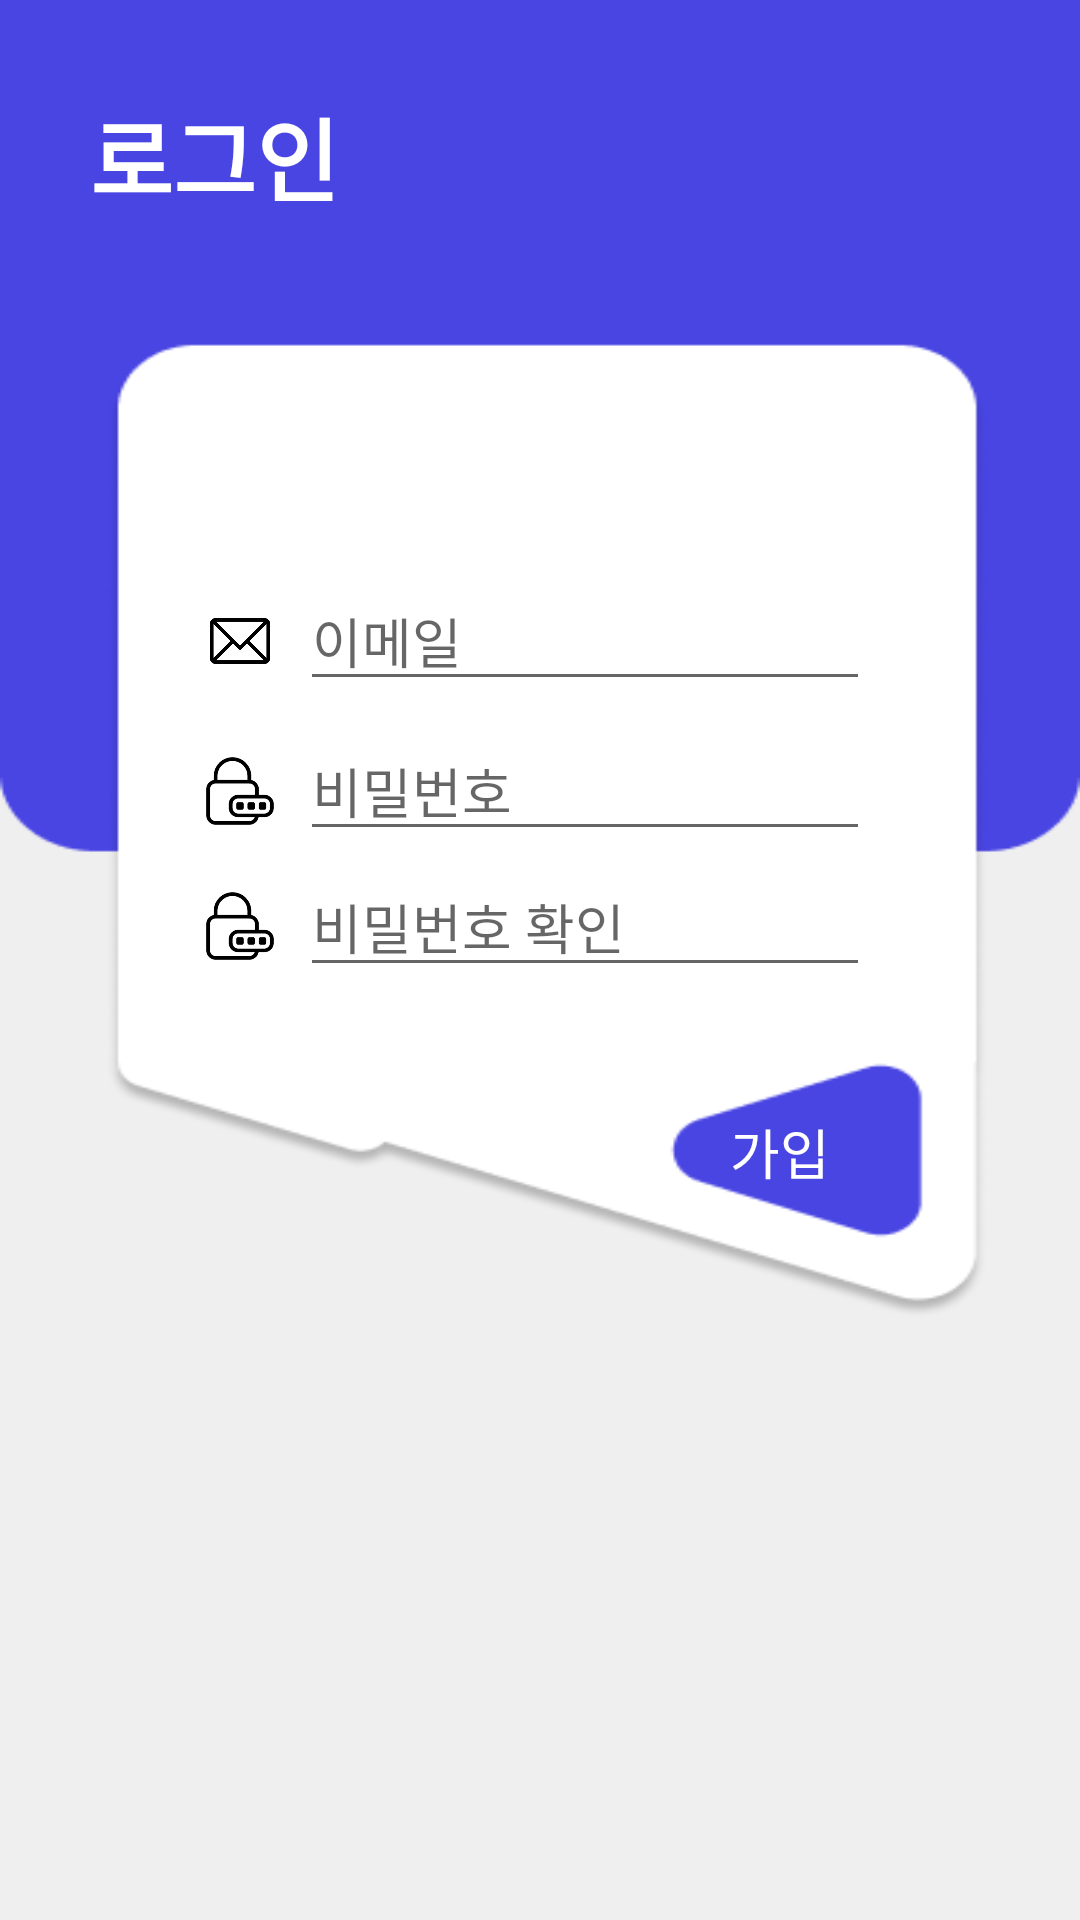

Locate icon controls on the screen. Image size 1080×1920, boxes as bbox=[x1, y1, x2, y2].
email: bbox=[210, 618, 270, 664]
password: bbox=[206, 757, 274, 825], bbox=[206, 892, 274, 960]
